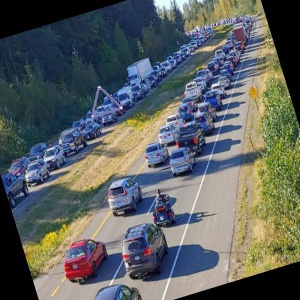triangle: (89, 84, 126, 119)
